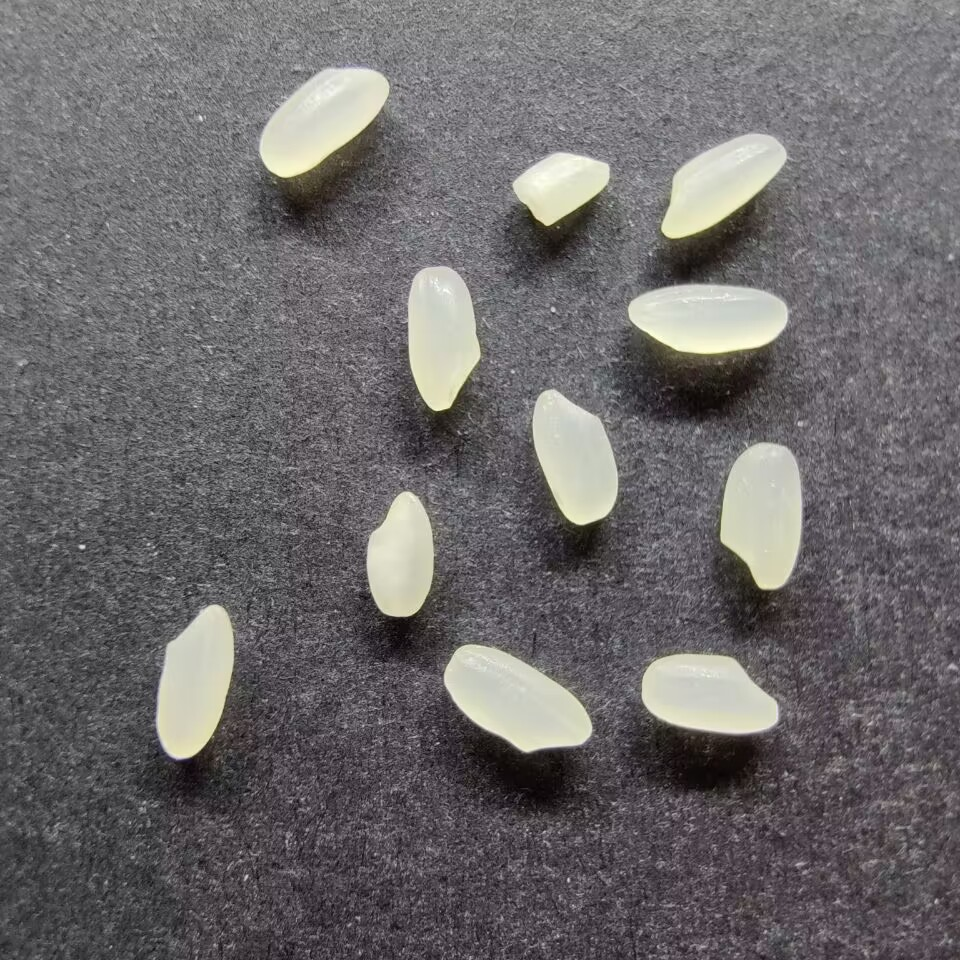broken: (510, 150, 612, 227)
rice: (441, 643, 593, 753), (256, 65, 390, 178), (658, 132, 789, 240), (152, 603, 235, 761), (717, 442, 805, 591), (530, 387, 619, 526), (626, 282, 789, 354), (639, 652, 780, 735), (404, 264, 482, 413), (364, 490, 435, 618)
